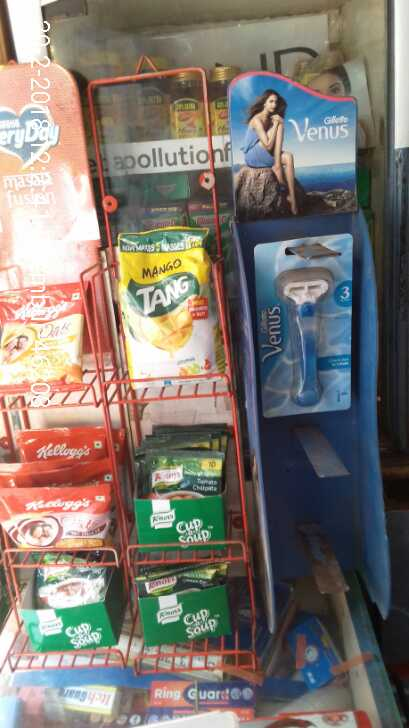venus: (256, 229, 358, 415)
